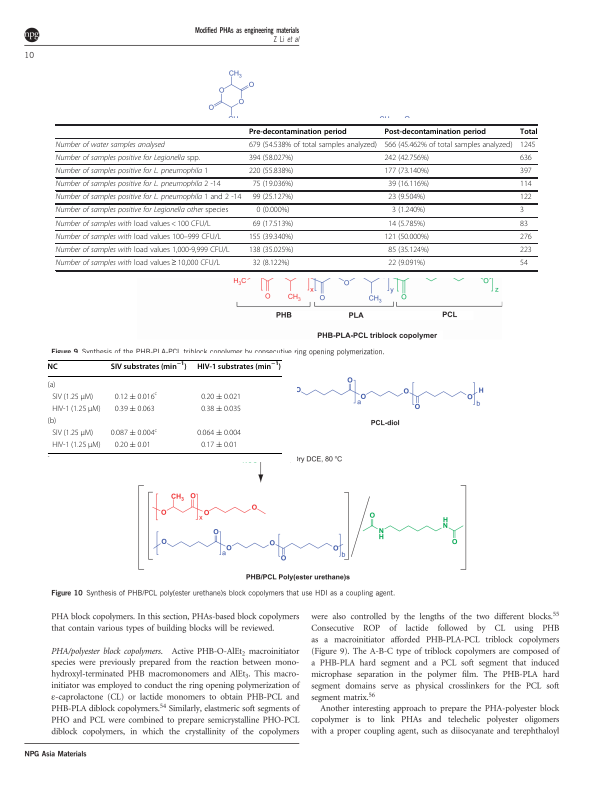borderless: (55, 123, 537, 270), (46, 358, 282, 453)
cell: (55, 245, 231, 255), (55, 193, 242, 202), (55, 232, 222, 242), (55, 179, 221, 189), (55, 258, 221, 268), (55, 206, 229, 215), (55, 166, 209, 176), (55, 153, 201, 163), (55, 219, 211, 228), (248, 140, 378, 150), (383, 140, 513, 150), (55, 140, 166, 150), (383, 127, 487, 136), (248, 127, 347, 136), (196, 361, 282, 371), (110, 361, 188, 371), (110, 427, 158, 438), (51, 404, 102, 414), (114, 391, 158, 402), (383, 153, 430, 163), (383, 166, 430, 176), (383, 232, 430, 242), (248, 153, 294, 163), (248, 166, 294, 176), (248, 232, 294, 242), (248, 245, 294, 255), (51, 441, 102, 450), (51, 392, 94, 402), (387, 179, 430, 189), (387, 245, 430, 255), (200, 392, 242, 402), (114, 404, 156, 414), (200, 404, 242, 414), (252, 179, 294, 189), (196, 429, 242, 438), (387, 258, 426, 268), (51, 429, 94, 438), (252, 258, 290, 268), (252, 193, 294, 202), (252, 219, 294, 228), (387, 193, 426, 202), (387, 219, 426, 228), (114, 441, 152, 450), (200, 441, 238, 450), (255, 206, 290, 215), (391, 206, 426, 215), (519, 127, 538, 136), (519, 140, 536, 150), (519, 153, 533, 163), (519, 166, 533, 176), (519, 179, 533, 189), (519, 232, 533, 242), (519, 245, 533, 255), (519, 193, 533, 202), (47, 362, 59, 371), (519, 258, 529, 268), (47, 380, 56, 390), (47, 417, 57, 426), (519, 219, 529, 228), (519, 206, 525, 215)
